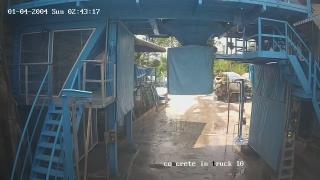cement_mixer_truck: (213, 72, 250, 102)
